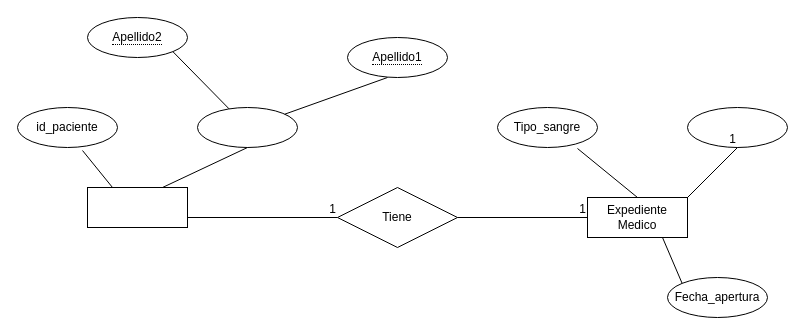
Image size: 805x335. Some labels were removed from this diagram. Each missing label, with the centre of its shape:
"id_expediente" belongs at [737,127].
"Nombre" belongs at [247,127].
"Paciente" belongs at [137,207].
